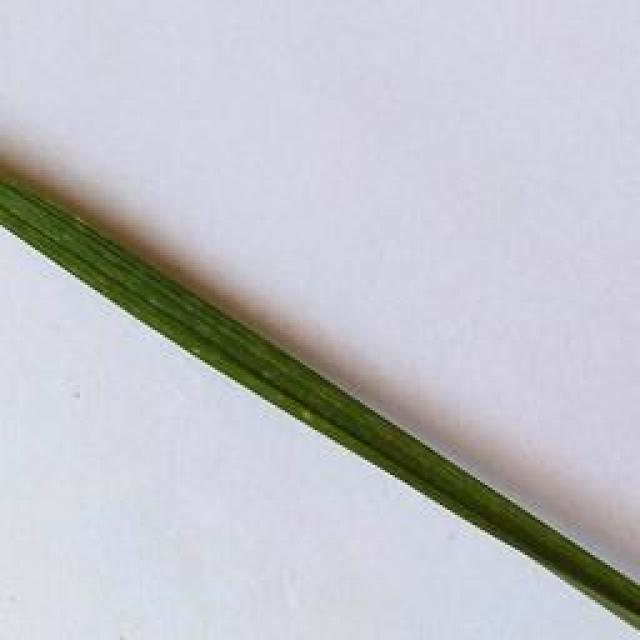Healthy-Plant: (0, 172, 640, 626)
